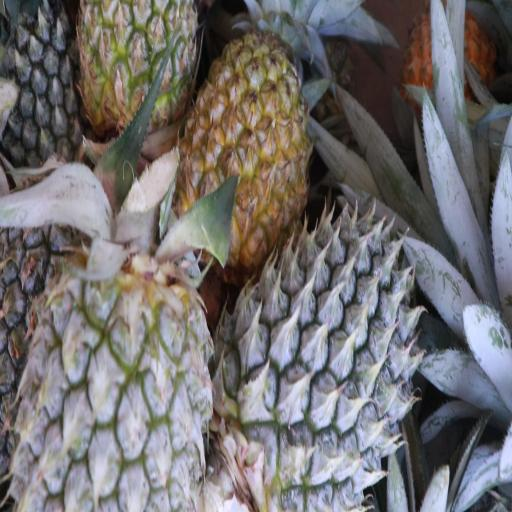------------------------------: (72, 0, 194, 137)
Pineapple - v8 v1: (189, 38, 311, 264)
